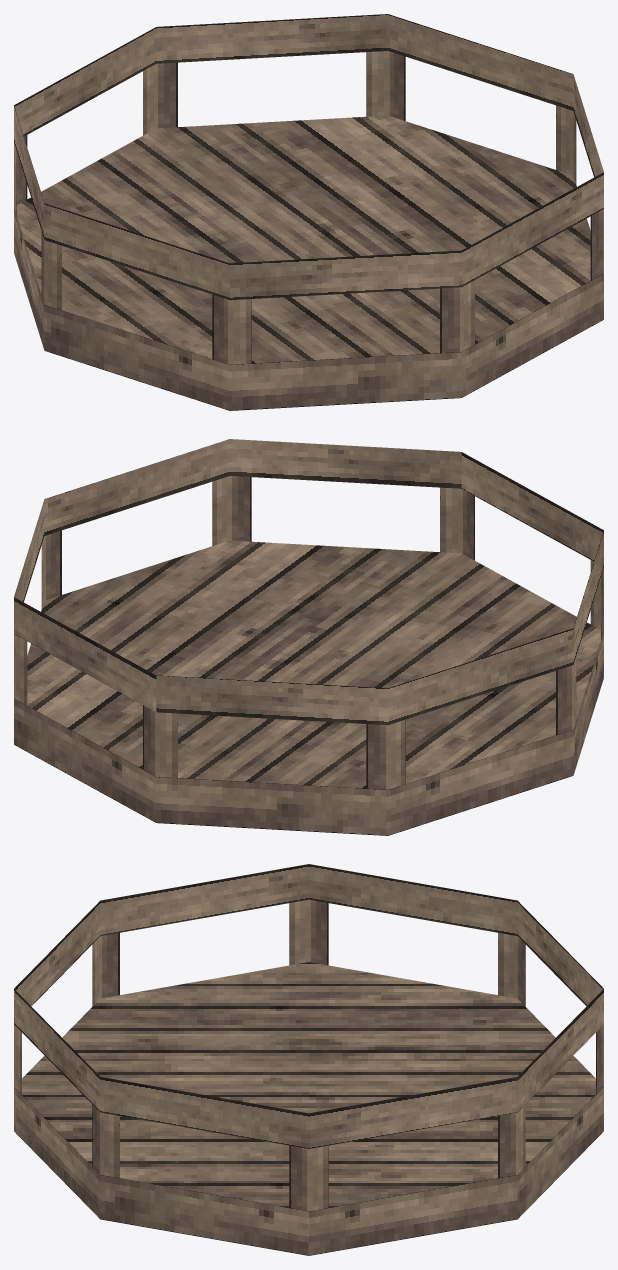
File: overhang-round-railing.glb
3 views of the same model, one above another, from view 1: azimuth 30°, elevation 25°; view 2: azimuth 150°, elevation 25°; view 3: azimuth 270°, elevation 25° (orthographic). The views are drawn at different scales.
Parts seen in each view (by area): view 1: overhang-round-railing, Group; view 2: overhang-round-railing, Group; view 3: overhang-round-railing, Group.
Part boxes in pixels (x1=…): overhang-round-railing: x1=14, y1=51, x2=603, y2=410; Group: x1=14, y1=14, x2=603, y2=300; overhang-round-railing: x1=14, y1=476, x2=603, y2=835; Group: x1=14, y1=439, x2=603, y2=725; overhang-round-railing: x1=14, y1=899, x2=603, y2=1255; Group: x1=14, y1=864, x2=603, y2=1148.
Size of the model in its own units: 1.5 by 0.4 by 1.5.
Materials: 1 (1 with a texture image).
